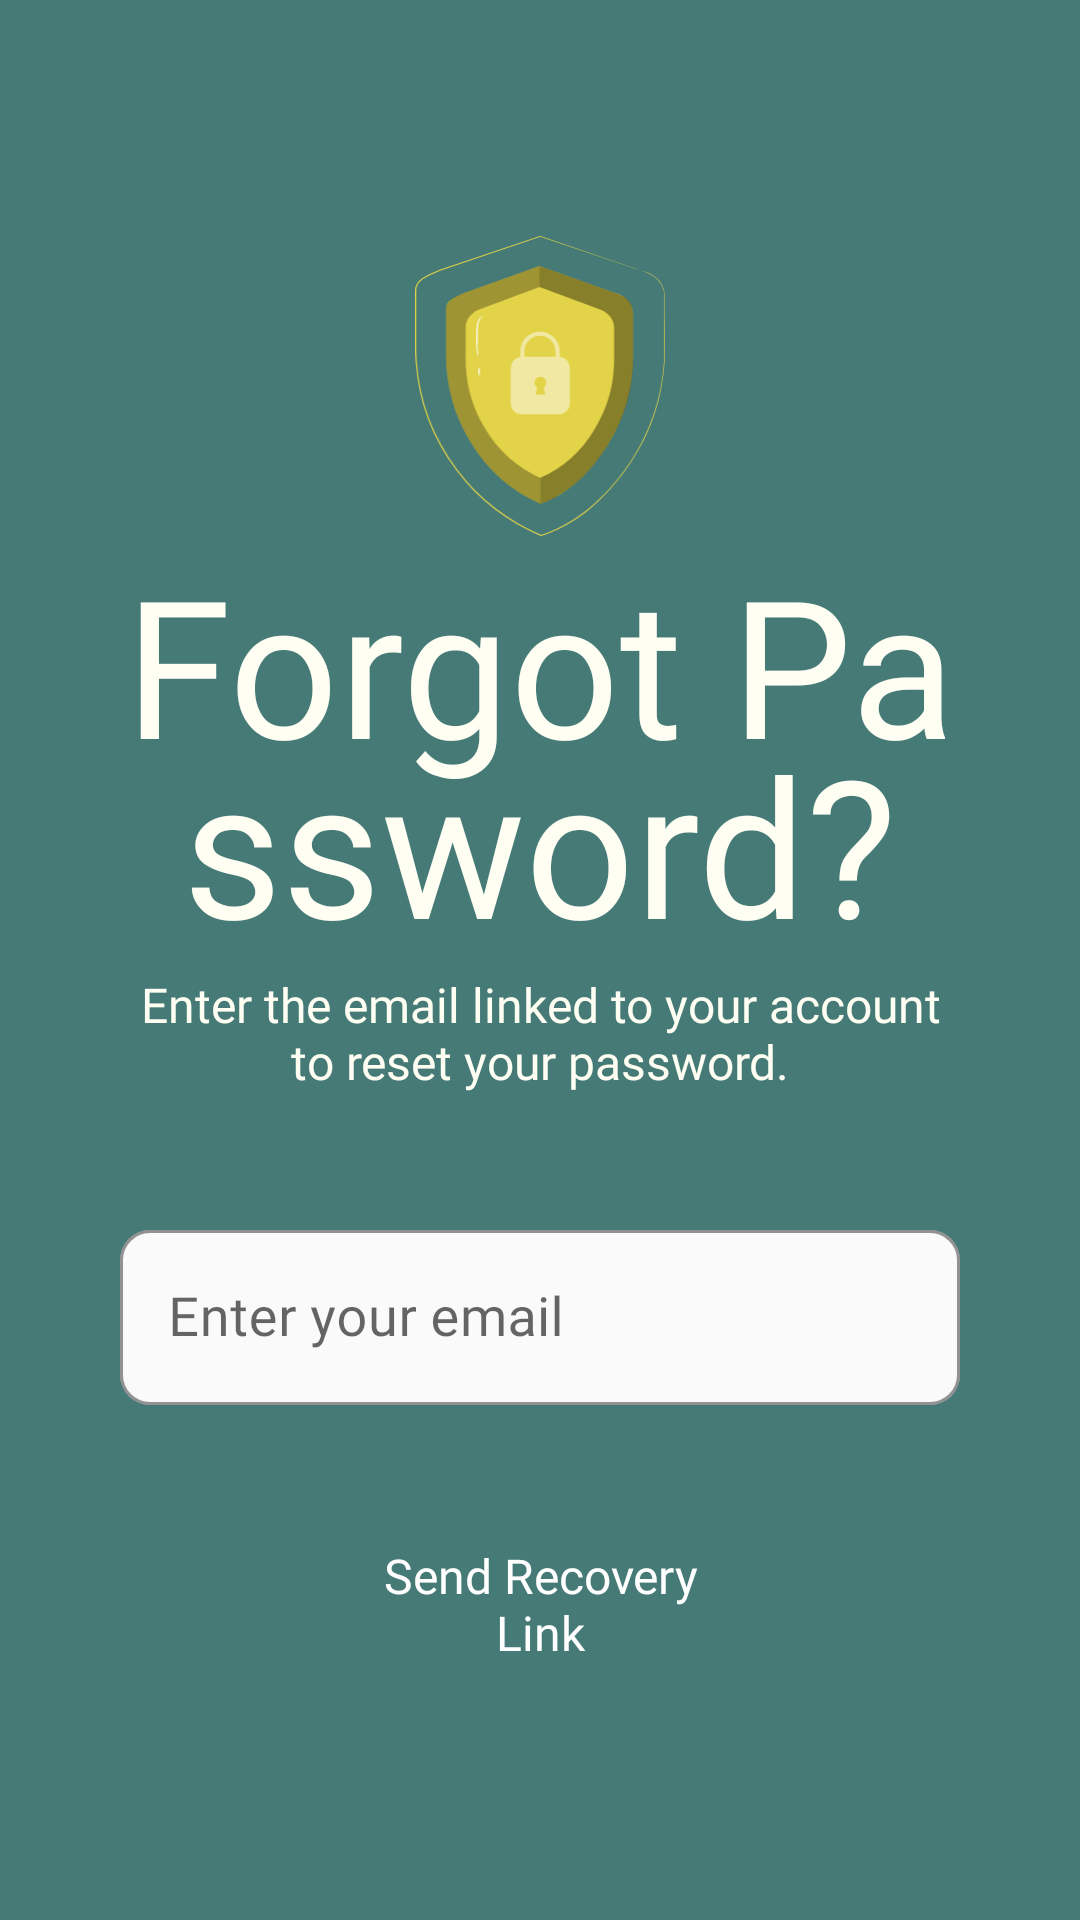

Named icons in this screenshot (1080 x 1920) and their centers, point (x, y):
lock: point (540, 386)
